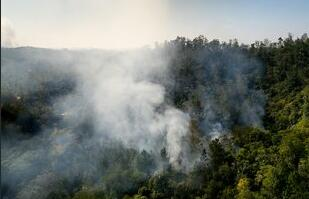yanwu: (1, 0, 209, 183), (172, 45, 266, 132)
